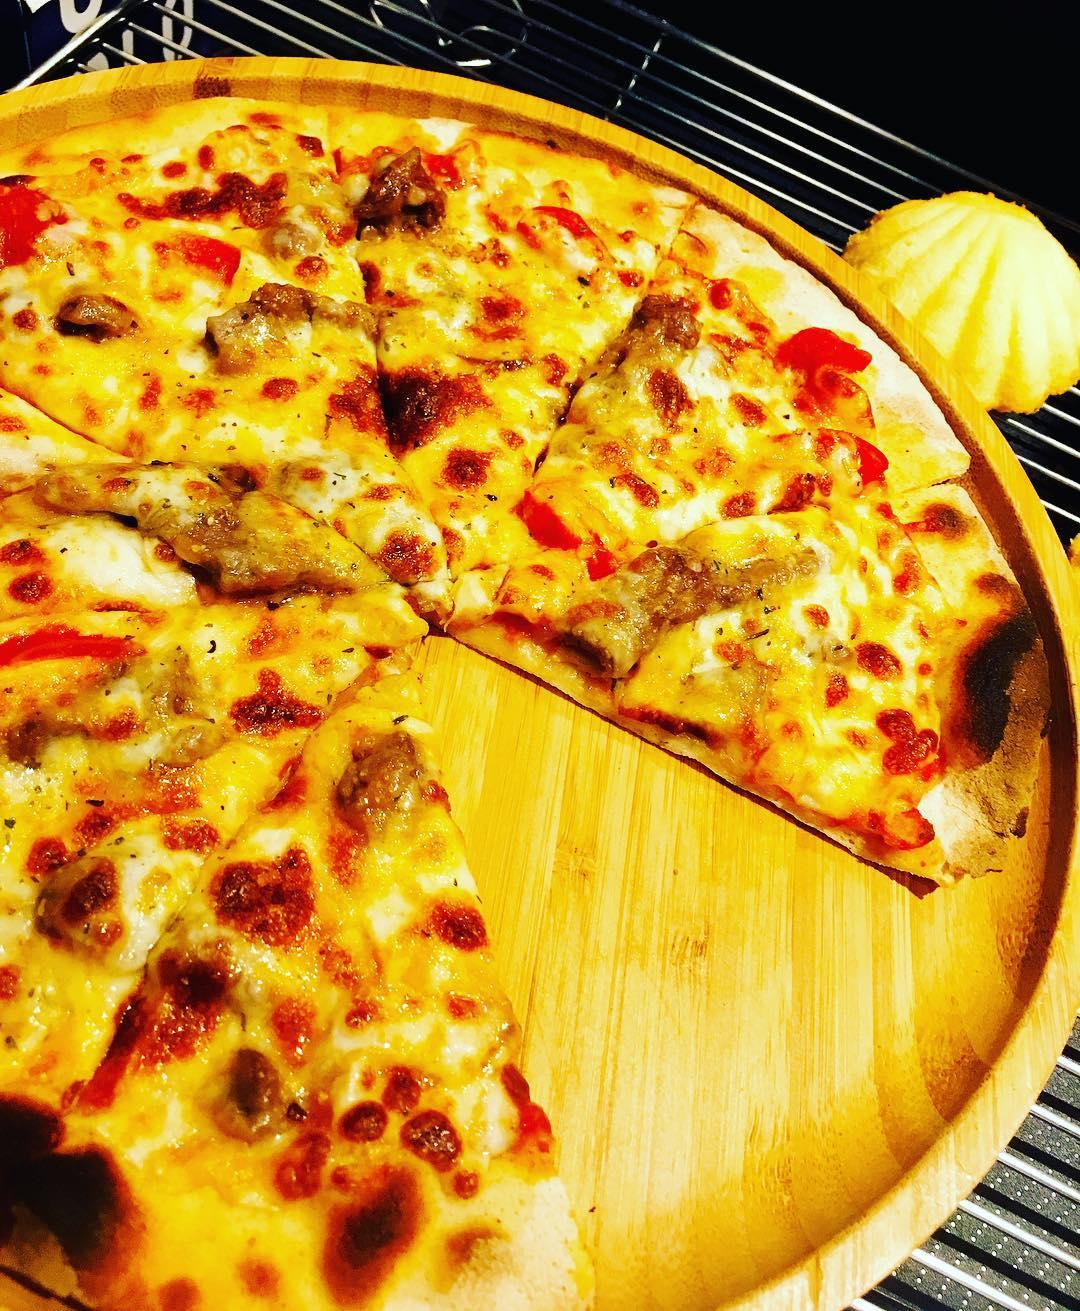Mushroom: (33, 461, 380, 597), (555, 536, 820, 683), (205, 274, 395, 381), (347, 142, 462, 248), (322, 713, 440, 816), (37, 850, 118, 959), (628, 265, 704, 376), (38, 289, 162, 352)
Pizza: (0, 84, 1052, 1311)
